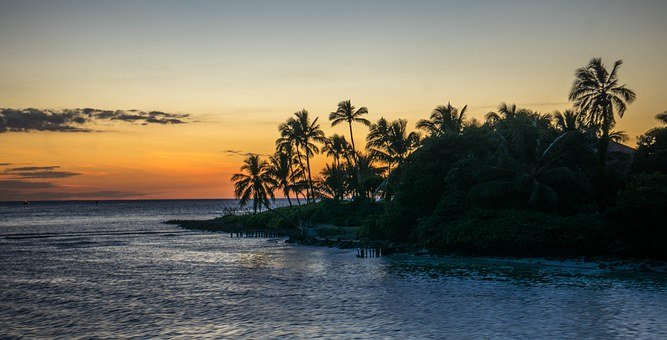mountain: (380, 112, 667, 241)
sea: (13, 219, 667, 338)
sky: (1, 2, 244, 198)
tree: (271, 105, 320, 214), (317, 101, 366, 210), (365, 99, 414, 208), (575, 48, 624, 157), (228, 152, 283, 220)
